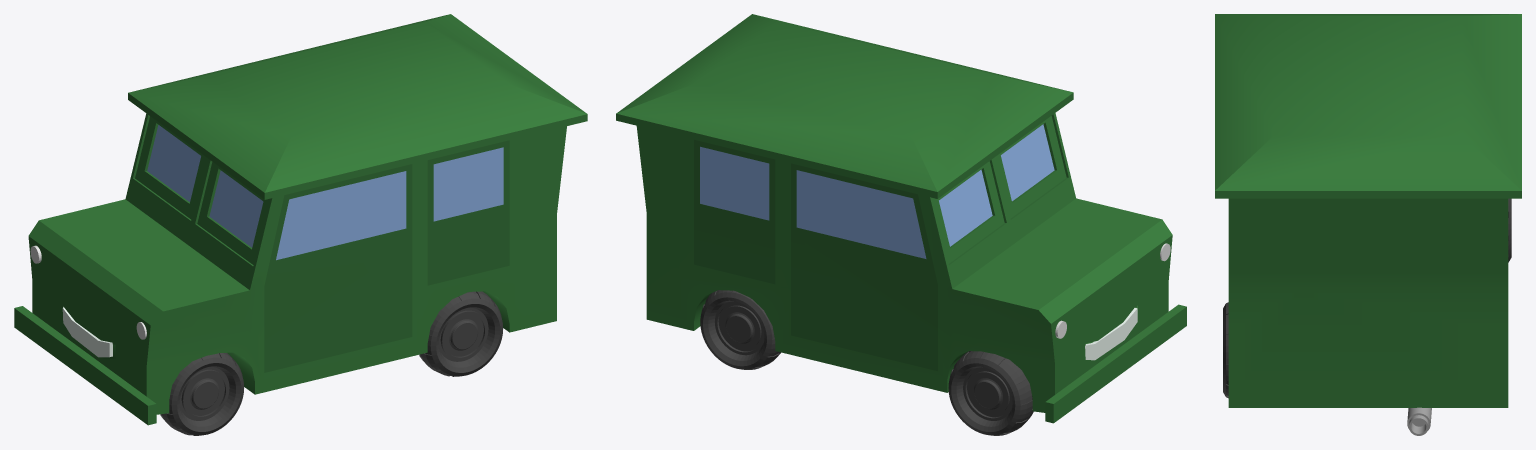
The model's file is Karakter Jeep kartun.fbx.
The picture shows the model from 3 angles, left to right: view 1: azimuth 30°, elevation 25°; view 2: azimuth 150°, elevation 25°; view 3: azimuth 270°, elevation 25°; orthographic projection. The views are drawn at different scales.
Parts seen in each view (by area): view 1: Cube, Torus.003, Torus.001, Cube.003; view 2: Cube, Torus.002, Torus.004, Cube.003; view 3: Cube, Cylinder.002, Torus.003.
Part boxes in pixels (box(x1,y1,x2,y2)): Cube: box(14, 14, 587, 425); Torus.003: box(419, 291, 503, 376); Torus.001: box(160, 353, 244, 435); Cube.003: box(62, 307, 112, 357); Cube: box(616, 14, 1186, 423); Torus.002: box(948, 351, 1033, 435); Torus.004: box(700, 290, 780, 369); Cube.003: box(1085, 308, 1137, 360); Cube: box(1215, 14, 1521, 407); Cylinder.002: box(1407, 407, 1431, 435); Torus.003: box(1223, 302, 1228, 398).
Size of the model in its own units: 7.22 by 4.19 by 3.9.
